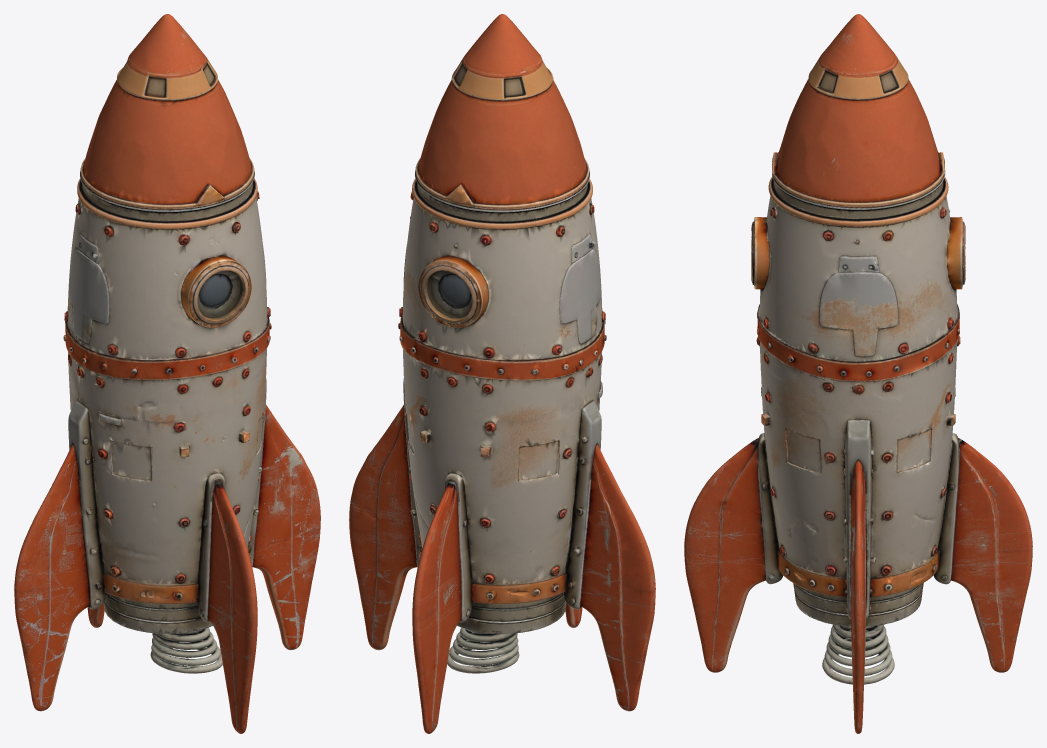
File: weathered-rocket.glb
The picture shows the model from 3 angles, left to right: view 1: azimuth 30°, elevation 25°; view 2: azimuth 150°, elevation 25°; view 3: azimuth 270°, elevation 25°; orthographic projection.
Parts seen in each view (by area): view 1: tripo_node_f96c28dd-abb4-40de-9b29-b2e9a3968fce; view 2: tripo_node_f96c28dd-abb4-40de-9b29-b2e9a3968fce; view 3: tripo_node_f96c28dd-abb4-40de-9b29-b2e9a3968fce.
Boxes of the visible parts, x1,y1,x2,y2 form: tripo_node_f96c28dd-abb4-40de-9b29-b2e9a3968fce: (14, 14, 320, 733); tripo_node_f96c28dd-abb4-40de-9b29-b2e9a3968fce: (349, 14, 655, 733); tripo_node_f96c28dd-abb4-40de-9b29-b2e9a3968fce: (684, 14, 1032, 733).
Size of the model in its own units: 0.4809 by 1 by 0.4805.
Materials: 1 (1 with a texture image).
